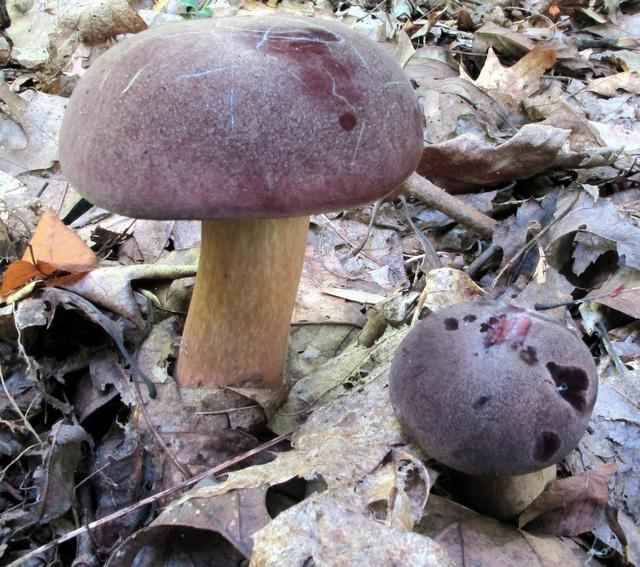poisonous_mushroom: (56, 12, 425, 398), (387, 297, 599, 518)
